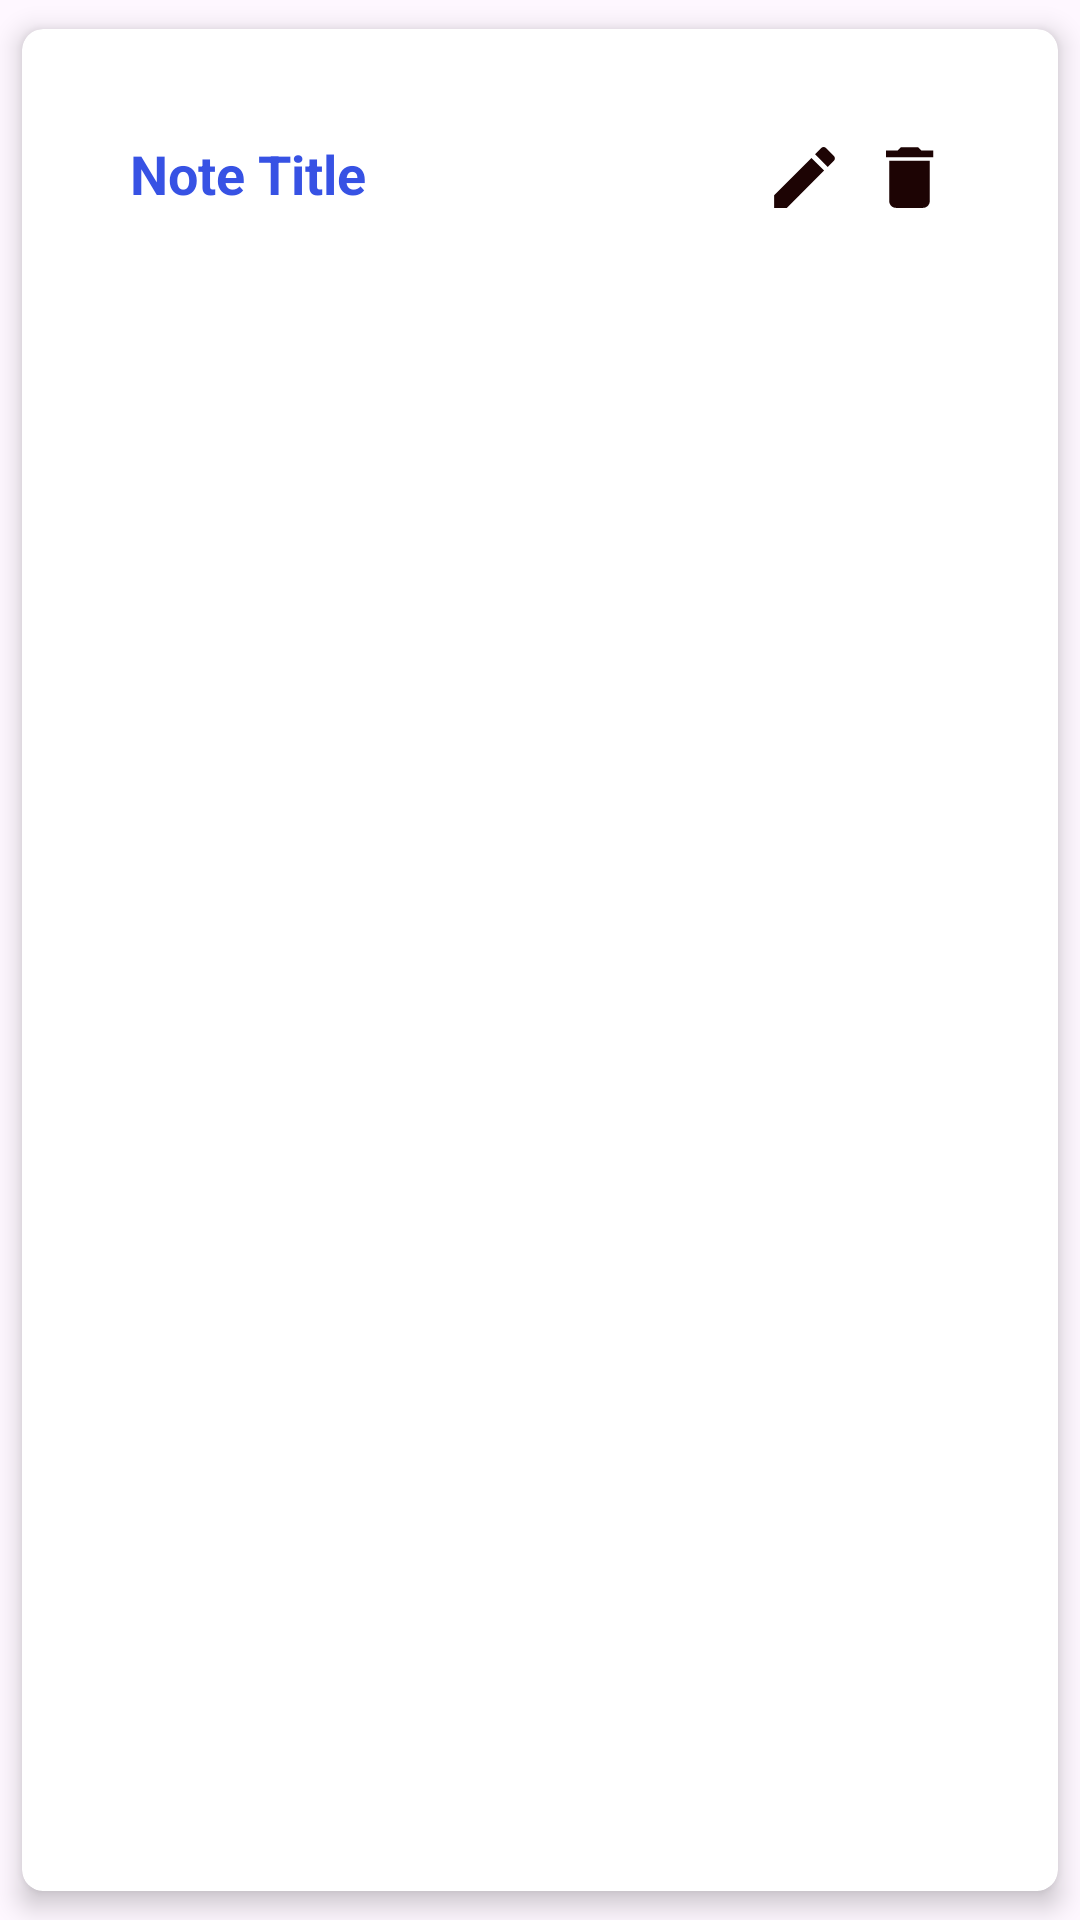

Icons on this 1080*1920 Android screen, each with the point to tap as (x,y):
delete: (910,177)
edit: (804,177)
